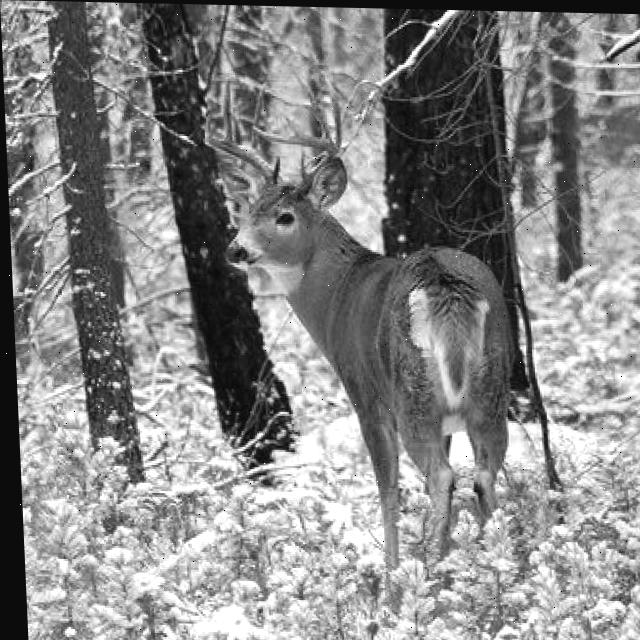Deer: (115, 62, 573, 585)
